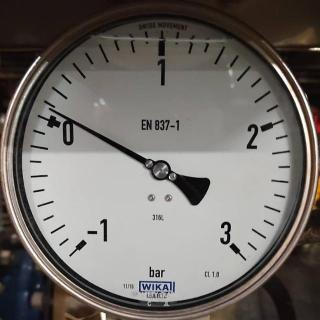gauge: (0, 0, 320, 320), (65, 212, 114, 266), (210, 220, 250, 268), (150, 159, 172, 181), (44, 103, 60, 117)
